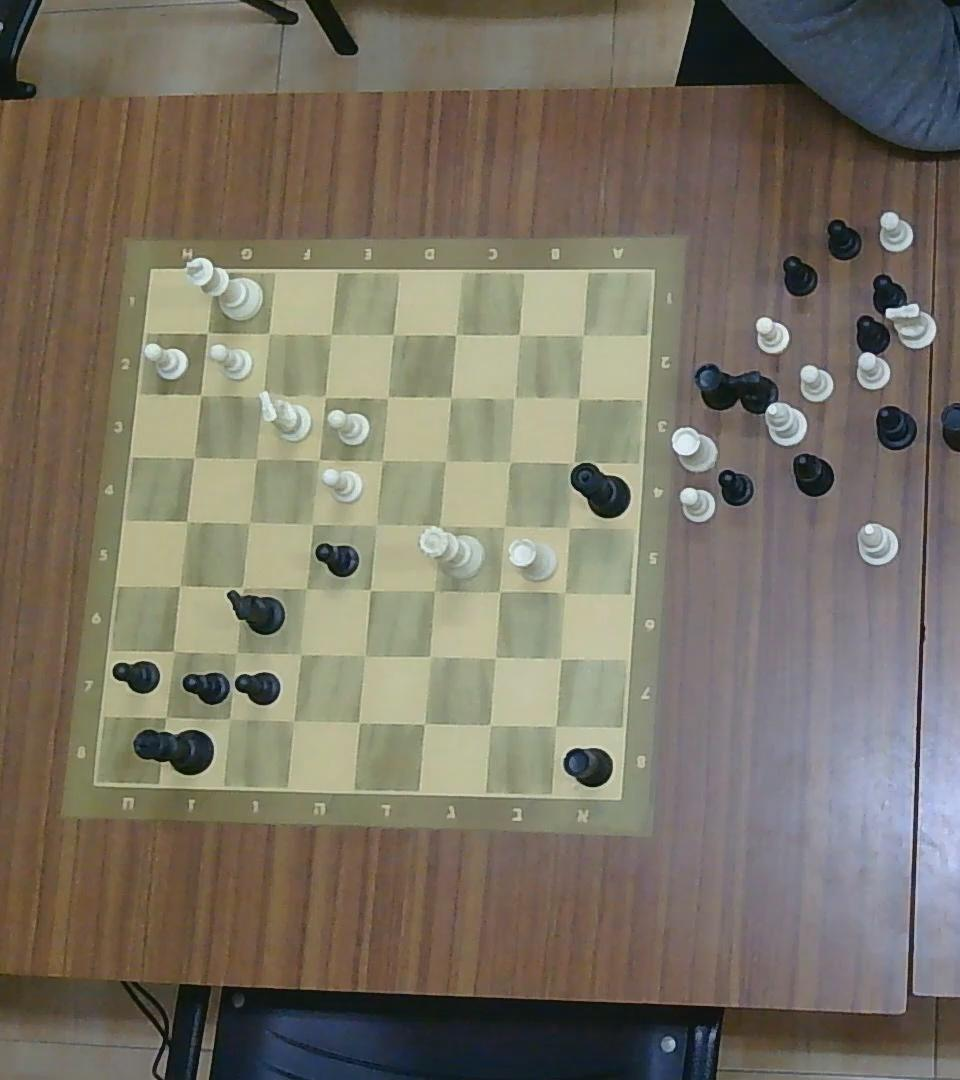xcorner: (542, 713, 569, 740), (215, 705, 241, 732), (411, 710, 437, 737), (417, 642, 443, 669), (547, 644, 573, 671), (280, 706, 305, 734), (153, 702, 179, 728), (477, 712, 503, 738), (352, 641, 377, 668), (379, 320, 404, 347), (486, 578, 511, 605), (481, 644, 506, 671), (369, 447, 394, 473), (167, 572, 192, 598), (425, 513, 450, 539), (287, 639, 311, 666), (358, 575, 382, 602), (346, 709, 371, 734), (551, 579, 576, 604), (558, 448, 583, 473), (174, 508, 198, 534), (375, 383, 399, 409), (237, 508, 261, 534), (421, 577, 445, 603), (557, 513, 581, 539), (491, 513, 515, 539), (223, 640, 247, 665), (294, 576, 318, 601), (229, 574, 253, 599), (196, 319, 219, 345), (162, 638, 185, 664), (257, 319, 280, 345), (318, 321, 341, 346), (497, 448, 520, 473), (438, 384, 461, 408), (364, 512, 387, 536), (188, 381, 211, 405), (250, 381, 273, 405), (570, 322, 594, 345), (433, 448, 455, 473), (300, 511, 323, 534), (444, 322, 467, 345), (306, 447, 329, 470), (508, 322, 531, 345), (182, 445, 204, 469), (245, 445, 267, 469), (313, 384, 335, 408), (568, 387, 590, 409), (503, 386, 524, 409)
